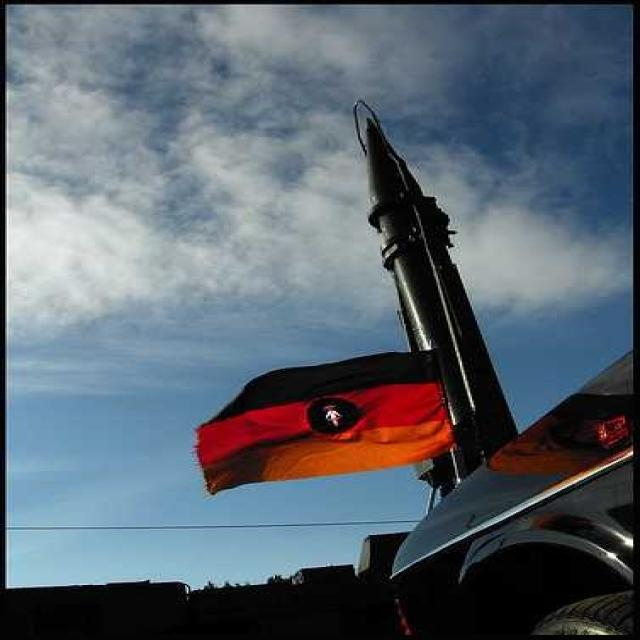missile: (345, 102, 521, 464)
